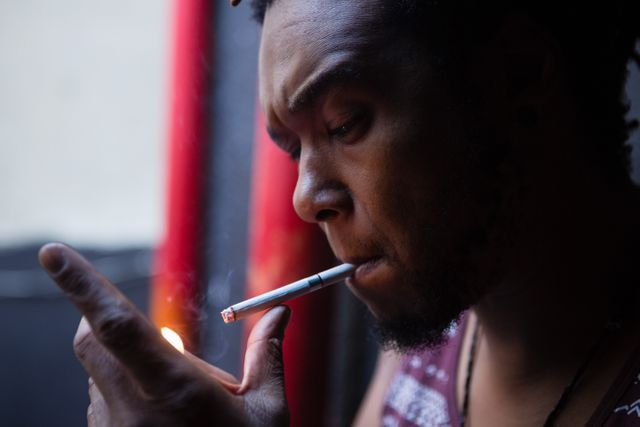cigarette: (215, 258, 364, 328)
